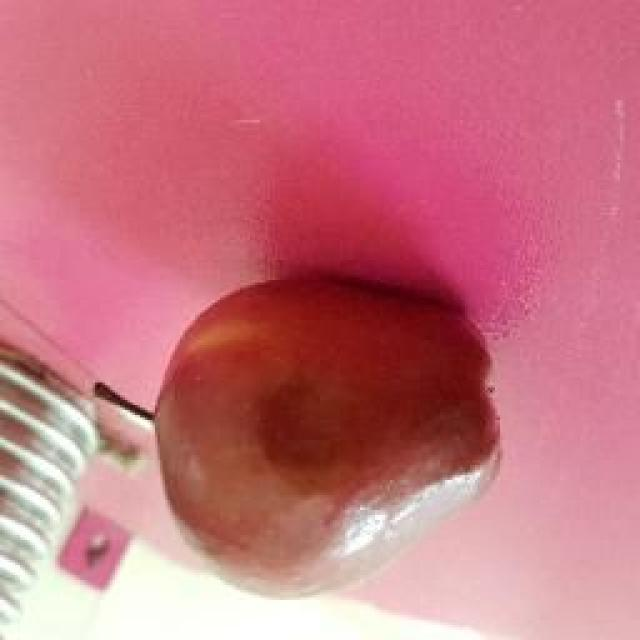Good_Apple: (152, 275, 502, 602)
